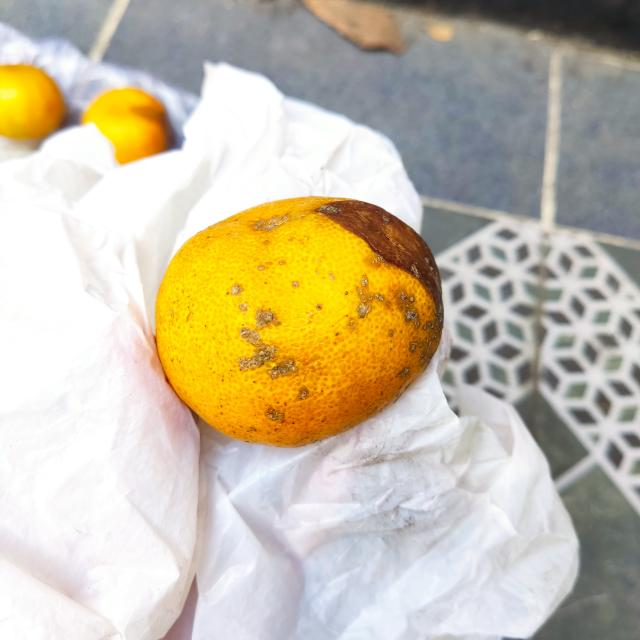orange: (156, 197, 444, 448)
